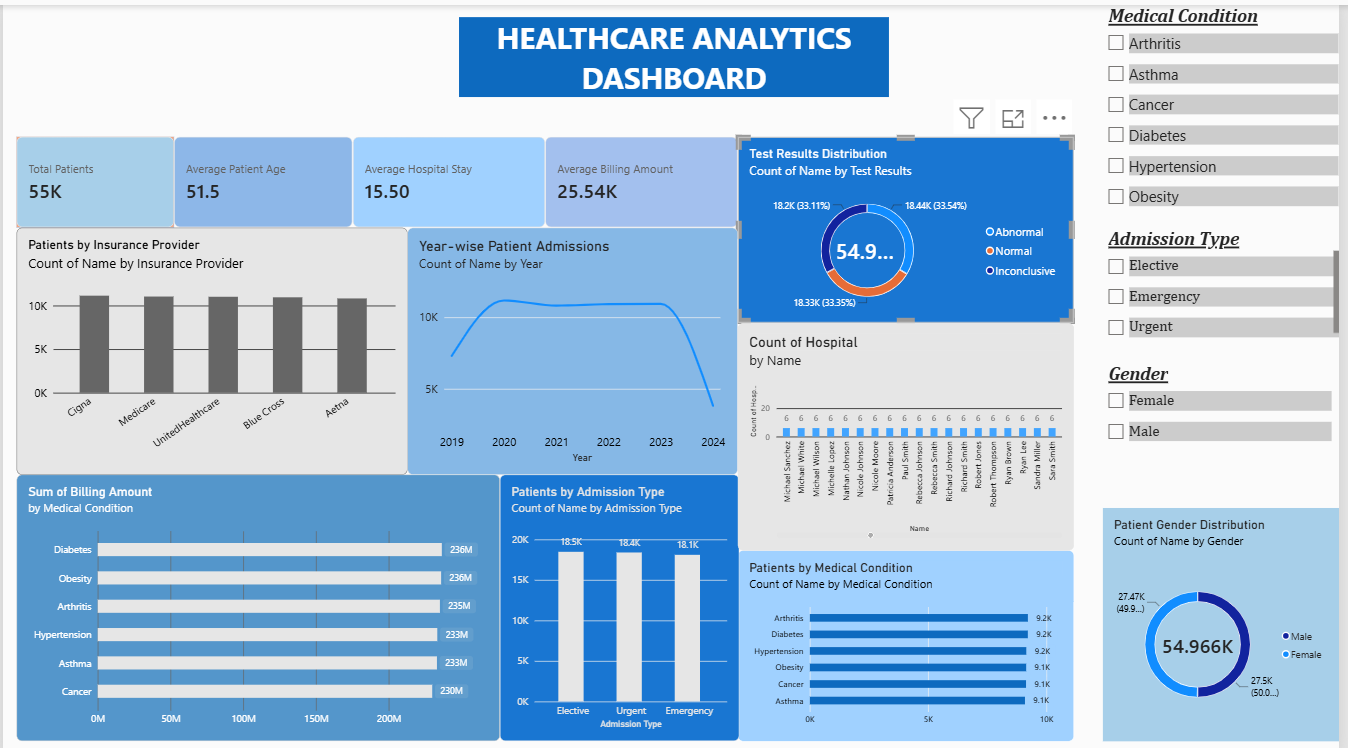

The page's visual inventory and layout, read from the dashboard file:
{"tool":"powerbi","page":{"name":"Healthcare Overview","canvas":[1920,1080],"ordinal":0},"visuals":[{"type":"cardVisual","fields":{"Data":["Healthcare_Data.Total Patients"]},"box":[20,190,226.4,130.6],"z":0},{"type":"cardVisual","fields":{"Data":["Healthcare_Data.Average Patient Age"]},"box":[246,189.4,256.9,130.6],"z":1000},{"type":"cardVisual","fields":{"Data":["Healthcare_Data.Average Billing Amount"]},"box":[779.4,189.4,276.5,130.6],"z":2000},{"type":"cardVisual","fields":{"Data":["Healthcare_Data.Average Hospital Stay"]},"box":[502.9,189.4,276.5,130.6],"z":3000},{"type":"clusteredBarChart","title":"Patients by Medical Condition","fields":{"Category":["Healthcare_Data.Medical Condition"],"Y":["CountNonNull(Healthcare_Data.Name)"]},"box":[1055.9,783.7,483.3,274.3],"z":4000},{"type":"donutChart","title":"Patient Gender Distribution","fields":{"Category":["Healthcare_Data.Gender"],"Y":["CountNonNull(Healthcare_Data.Name)"]},"box":[1580.6,722.8,339.6,335.3],"z":5000},{"type":"clusteredColumnChart","title":"Patients by Admission Type","fields":{"Category":["Healthcare_Data.Admission Type"],"Y":["CountNonNull(Healthcare_Data.Name)"]},"box":[714.1,674.9,344,383.2],"z":6000},{"type":"clusteredColumnChart","title":"Patients by Insurance Provider","fields":{"Category":["Healthcare_Data.Insurance Provider"],"Y":["CountNonNull(Healthcare_Data.Name)"]},"box":[19.6,320,561.7,354.9],"z":7000},{"type":"donutChart","title":"Test Results Distribution","fields":{"Category":["Healthcare_Data.Test Results"],"Y":["CountNonNull(Healthcare_Data.Name)"]},"box":[1055.9,189.4,483.3,267.8],"z":8000},{"type":"clusteredBarChart","fields":{"Category":["Healthcare_Data.Medical Condition"],"Y":["Sum(Healthcare_Data.Billing Amount)"]},"box":[19.6,674.9,694.5,383.2],"z":9000},{"type":"lineChart","title":"Year-wise Patient Admissions","fields":{"Category":["Healthcare_Data.Date of Admission.Variation.Date Hierarchy.Year","Healthcare_Data.Date of Admission.Variation.Date Hierarchy.Quarter","Healthcare_Data.Date of Admission.Variation.Date Hierarchy.Month","Healthcare_Data.Date of Admission.Variation.Date Hierarchy.Day"],"Y":["CountNonNull(Healthcare_Data.Name)"]},"box":[581.3,320,474.6,354.9],"z":10000},{"type":"clusteredColumnChart","fields":{"Category":["Healthcare_Data.Name"],"Y":["CountNonNull(Healthcare_Data.Hospital)"]},"box":[1055.9,457.2,483.3,326.6],"z":11000},{"type":"slicer","fields":{"Values":["Healthcare_Data.Gender"]},"box":[1580.6,513.8,328.7,161.1],"z":12000},{"type":"slicer","fields":{"Values":["Healthcare_Data.Medical Condition"]},"box":[1581.5,0,338.4,301.6],"z":13000},{"type":"slicer","fields":{"Values":["Healthcare_Data.Admission Type"]},"box":[1580.6,320,339.6,163.3],"z":14000},{"type":"textbox","box":[655,17.5,617.5,115],"z":15000}]}

Visuals, with their boxes in screenshot pixels (x1, y1, x2, y2), scaled from the page's 1920x1080 canvas onto the 1348x748 screenshot:
cardVisual - Healthcare_Data.Total Patients: (14,132,173,222)
cardVisual - Healthcare_Data.Average Patient Age: (173,131,353,222)
cardVisual - Healthcare_Data.Average Billing Amount: (547,131,741,222)
cardVisual - Healthcare_Data.Average Hospital Stay: (353,131,547,222)
"Patients by Medical Condition" clusteredBarChart: (741,543,1081,733)
"Patient Gender Distribution" donutChart: (1110,501,1347,733)
"Patients by Admission Type" clusteredColumnChart: (501,467,743,733)
"Patients by Insurance Provider" clusteredColumnChart: (14,222,408,467)
"Test Results Distribution" donutChart: (741,131,1081,317)
clusteredBarChart - Healthcare_Data.Medical Condition x Sum(Healthcare_Data.Billing Amount): (14,467,501,733)
"Year-wise Patient Admissions" lineChart: (408,222,741,467)
clusteredColumnChart - Healthcare_Data.Name x CountNonNull(Healthcare_Data.Hospital): (741,317,1081,543)
slicer - Healthcare_Data.Gender: (1110,356,1340,467)
slicer - Healthcare_Data.Medical Condition: (1110,0,1347,209)
slicer - Healthcare_Data.Admission Type: (1110,222,1347,335)
textbox: (460,12,893,92)
